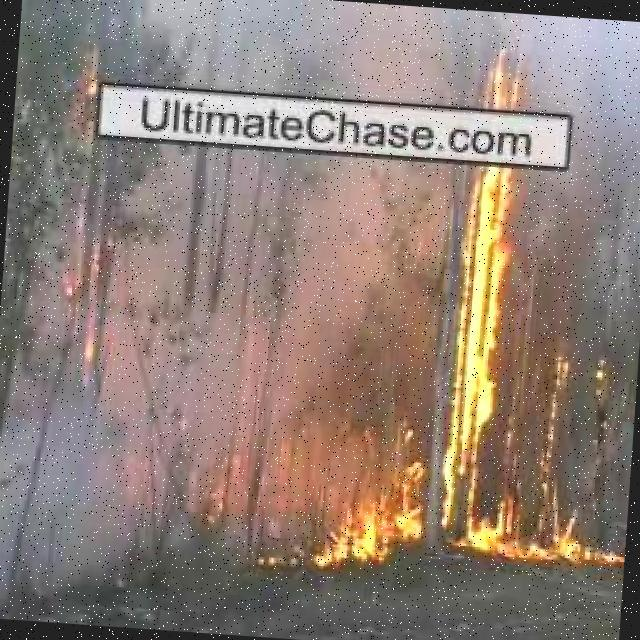Fire: (442, 58, 531, 552), (323, 495, 436, 579), (532, 518, 620, 570)
